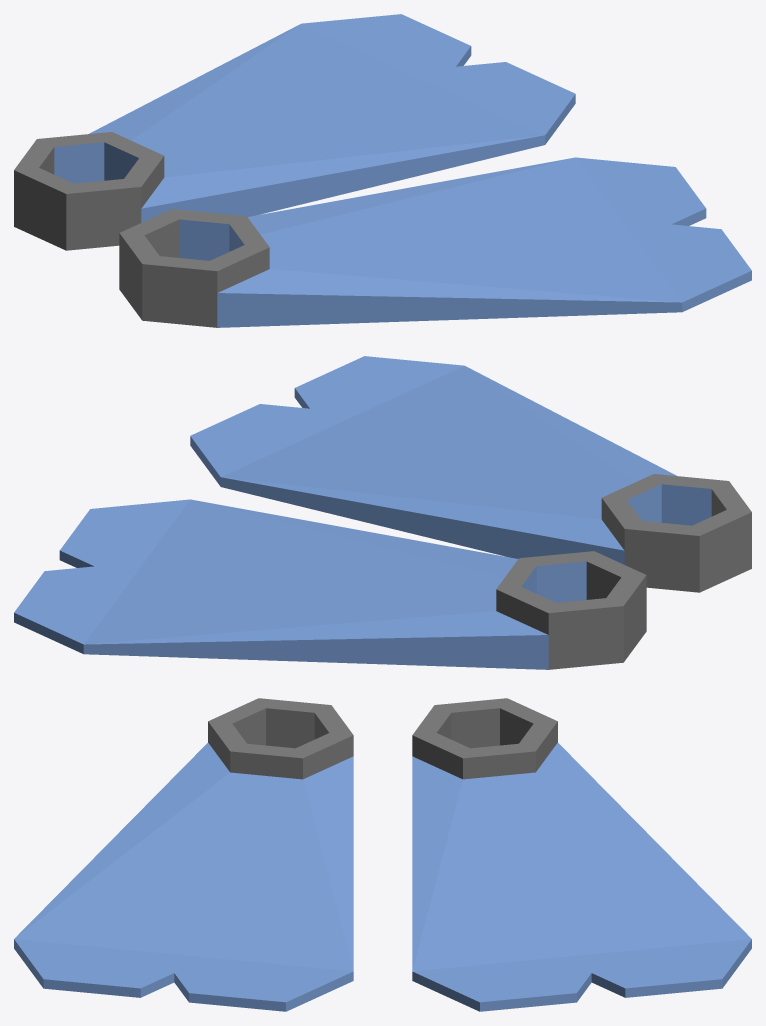
The model's file is Flippers.fbx.
3 views of the same model, one above another, from view 1: azimuth 30°, elevation 25°; view 2: azimuth 150°, elevation 25°; view 3: azimuth 270°, elevation 25° (orthographic). The views are drawn at different scales.
Visible parts, largest first — view 1: Flippers; view 2: Flippers; view 3: Flippers.
Part boxes in pixels (left/top/right/bottom): Flippers: left=14, top=14, right=751, bottom=327; Flippers: left=14, top=356, right=751, bottom=669; Flippers: left=14, top=698, right=751, bottom=1011.
Size of the model in its own units: 0.1403 by 0.0139 by 0.1691.
